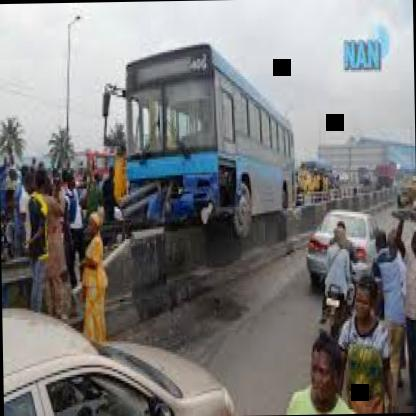accident: (76, 31, 306, 262)
